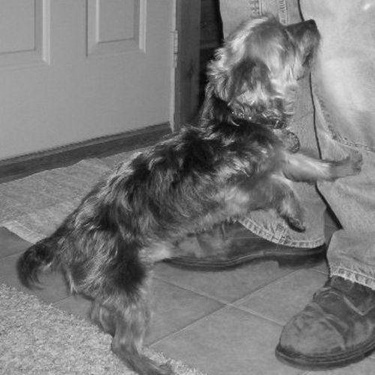dog: (10, 10, 366, 373)
